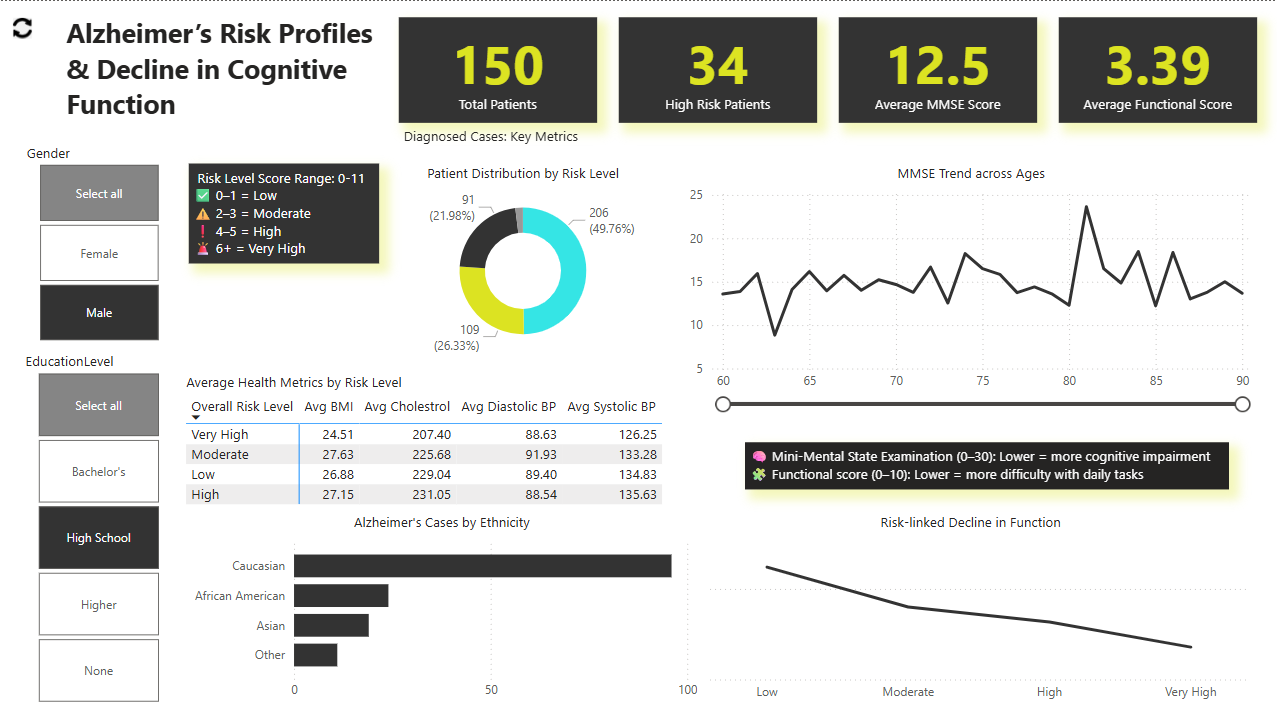

What the dashboard file says about the page in this screenshot:
{"tool":"powerbi","page":{"name":"Page 1","canvas":[1280,720],"ordinal":0},"visuals":[{"type":"donutChart","title":"Patient Distribution by Risk Level","fields":{"Category":["alzheimers_disease_data.OverallRiskLevel"],"Y":["CountNonNull(alzheimers_disease_data.PatientID)"]},"box":[386.2,162.5,273.8,197.5],"z":0},{"type":"lineChart","title":"MMSE Trend across Ages","fields":{"Y":["alzheimers_disease_data.Average MMSE Score"],"Category":["alzheimers_disease_data.Age"]},"box":[685,162.5,572.5,251.2],"z":1000},{"type":"lineChart","title":"Risk-linked Decline in Function","fields":{"Category":["alzheimers_disease_data.OverallRiskLevel"],"Y":["cogn and func assessment.Average Functional Assessment"]},"box":[688.8,511.2,563.8,197.5],"z":2000},{"type":"slicer","fields":{"Values":["alzheimers_disease_data.EducationLevel"]},"box":[12.5,346.2,170,361.2],"z":3000},{"type":"card","fields":{"Values":["alzheimers_disease_data.Total Alzheimer's Patients"]},"box":[399.2,16,198.6,105.4],"z":4000,"group":"g1"},{"type":"slicer","fields":{"Values":["alzheimers_disease_data.Gender"]},"box":[13.8,137.5,168.8,208.8],"z":4000},{"type":"barChart","title":"Alzheimer''s Cases by Ethnicity","fields":{"Y":["alzheimers_disease_data.Total Alzheimer's Patients"],"Category":["alzheimers_disease_data.Ethnicity"]},"box":[181.2,511.2,521.2,196.2],"z":5000},{"type":"textbox","box":[188.8,162.5,190,100],"z":6000},{"type":"textbox","box":[61.2,8.8,317.5,153.8],"z":7000,"group":"g1"},{"type":"pivotTable","title":"Average Health Metrics by Risk Level","fields":{"Rows":["alzheimers_disease_data.OverallRiskLevel"],"Values":["cogn and func assessment.Avg BMI","cogn and func assessment.Avg Cholestrol","cogn and func assessment.Avg Diastolic BP","cogn and func assessment.Avg Systolic BP"]},"box":[181.2,371.2,498.8,140],"z":7000},{"type":"card","fields":{"Values":["alzheimers_disease_data.High Risk Patient Count"]},"box":[619.1,16,198.6,105.4],"z":8000,"group":"g1"},{"type":"textbox","box":[745,441.2,483.8,47.5],"z":8000},{"type":"card","fields":{"Values":["alzheimers_disease_data.Average MMSE Score"]},"box":[838.9,16,198.6,105.4],"z":9000,"group":"g1"},{"type":"group","id":"g1","title":"Group 1","box":[61.2,8.8,1196.2,153.8],"z":9000},{"type":"actionButton","title":"Reset all visuals","box":[0,0,45,55],"z":9001},{"type":"card","fields":{"Values":["cogn and func assessment.Average Functional Score"]},"box":[1058.7,16,198.6,105.4],"z":10000,"group":"g1"},{"type":"textbox","box":[398.2,121,229,32.3],"z":11000,"group":"g1"}]}

Visuals, with their boxes in screenshot pixels (x1, y1, x2, y2), scaled from the page's 1280x720 canvas onto the 1277x721 screenshot:
"Patient Distribution by Risk Level" donutChart: x1=385 y1=163 x2=658 y2=360
"MMSE Trend across Ages" lineChart: x1=683 y1=163 x2=1255 y2=414
"Risk-linked Decline in Function" lineChart: x1=687 y1=512 x2=1250 y2=710
slicer - alzheimers_disease_data.EducationLevel: x1=12 y1=347 x2=182 y2=708
card - alzheimers_disease_data.Total Alzheimer's Patients: x1=398 y1=16 x2=596 y2=122
slicer - alzheimers_disease_data.Gender: x1=14 y1=138 x2=182 y2=347
"Alzheimer''s Cases by Ethnicity" barChart: x1=181 y1=512 x2=701 y2=708
textbox: x1=188 y1=163 x2=378 y2=263
textbox: x1=61 y1=9 x2=378 y2=163
"Average Health Metrics by Risk Level" pivotTable: x1=181 y1=372 x2=678 y2=512
card - alzheimers_disease_data.High Risk Patient Count: x1=618 y1=16 x2=816 y2=122
textbox: x1=743 y1=442 x2=1226 y2=489
card - alzheimers_disease_data.Average MMSE Score: x1=837 y1=16 x2=1035 y2=122
"Group 1" group: x1=61 y1=9 x2=1254 y2=163
"Reset all visuals" actionButton: x1=0 y1=0 x2=45 y2=55
card - cogn and func assessment.Average Functional Score: x1=1056 y1=16 x2=1254 y2=122
textbox: x1=397 y1=121 x2=626 y2=154
